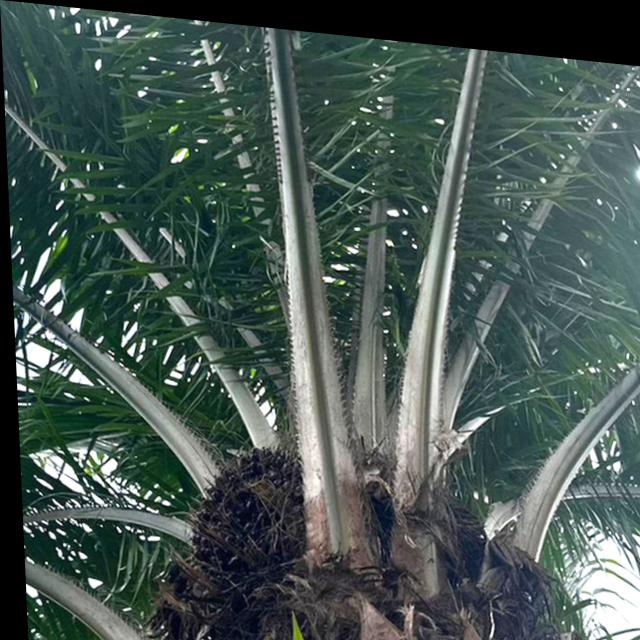almost: (175, 427, 309, 588)
